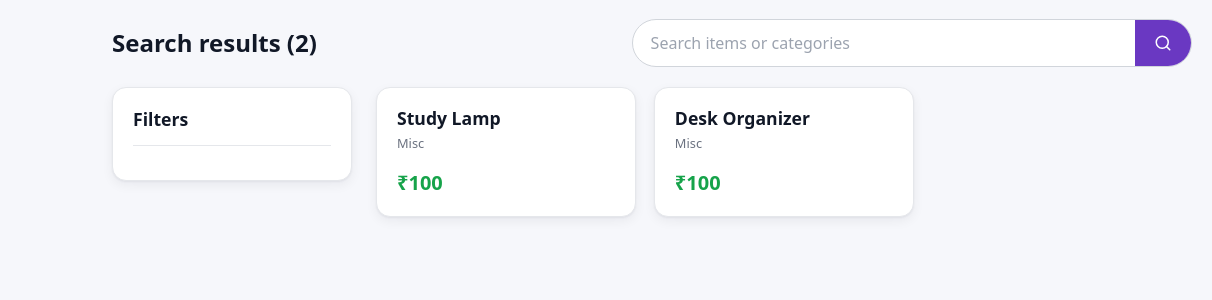
live search › does not overwrite what is being typed while an earlier search settles into the URL
In the field with placeholder "Search items or categories": (884, 43) [633,20,1135,66], type "ab"
Wait 260 ms
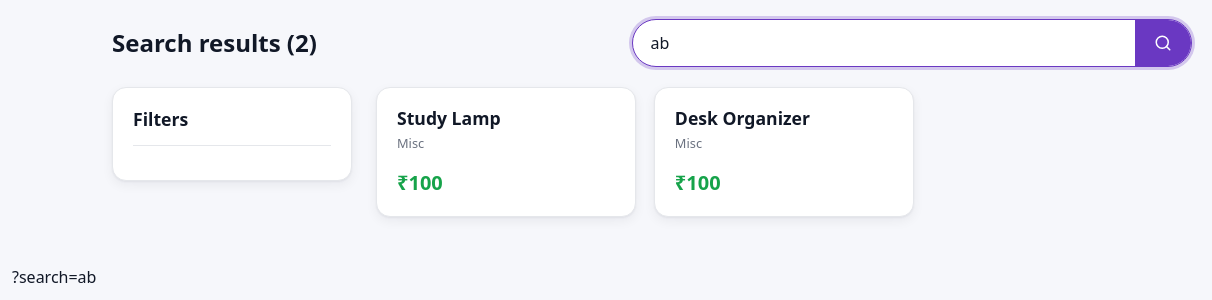
In the field with placeholder "Search items or categories": (884, 43) [633,20,1135,66], type "c"
Wait 260 ms
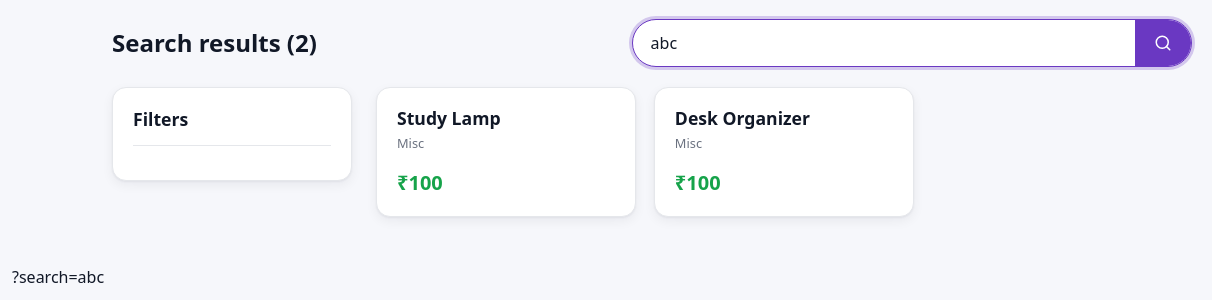
Expected: the field with placeholder "Search items or categories" holds "abc", [633,20,1135,66]
